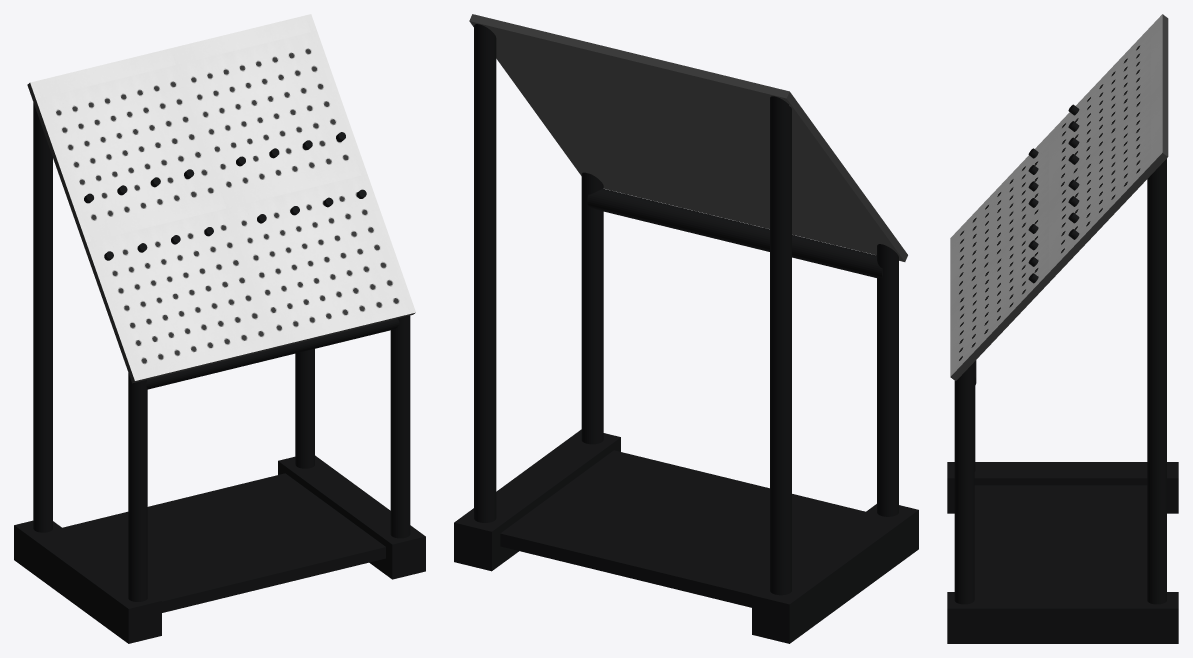
Rendered from workbench_2.obj.
3 renders of one model, left to right at view 1: azimuth 30°, elevation 25°; view 2: azimuth 150°, elevation 25°; view 3: azimuth 270°, elevation 25°, orthographic. The views are drawn at different scales.
Visible parts, largest first — view 1: Cube, plain, brick1, Cylinder, brick2, Cylinder.003, Cylinder.001, Cylinder.004, Cylinder.002; view 2: Cube, plain, Cylinder.002, Cylinder, brick1, brick2, Cylinder.004, Cylinder.003, Cylinder.001; view 3: Cube, plain, brick2, Cylinder.002, brick1, Cylinder.003.
Boxes of the visible parts, bbox=[...] form: Cube: bbox=[27, 14, 415, 383]; plain: bbox=[62, 473, 385, 612]; brick1: bbox=[14, 520, 161, 643]; Cylinder: bbox=[33, 102, 52, 532]; brick2: bbox=[278, 455, 425, 579]; Cylinder.003: bbox=[390, 315, 410, 538]; Cylinder.001: bbox=[128, 373, 147, 601]; Cylinder.004: bbox=[146, 318, 399, 389]; Cylinder.002: bbox=[295, 349, 314, 468]; Cube: bbox=[469, 14, 907, 261]; plain: bbox=[500, 450, 865, 607]; Cylinder.002: bbox=[474, 24, 496, 522]; Cylinder: bbox=[770, 96, 791, 595]; brick1: bbox=[752, 504, 918, 643]; brick2: bbox=[454, 429, 620, 571]; Cylinder.004: bbox=[587, 188, 882, 278]; Cylinder.003: bbox=[581, 172, 603, 444]; Cylinder.001: bbox=[877, 244, 898, 516]; Cube: bbox=[950, 14, 1168, 380]; plain: bbox=[974, 485, 1147, 591]; brick2: bbox=[947, 592, 1178, 643]; Cylinder.002: bbox=[1147, 159, 1166, 604]; brick1: bbox=[947, 462, 1178, 513]; Cylinder.003: bbox=[954, 362, 974, 604].
Bounding box in the file's own units: 3.41 × 5.28 × 2.27.
